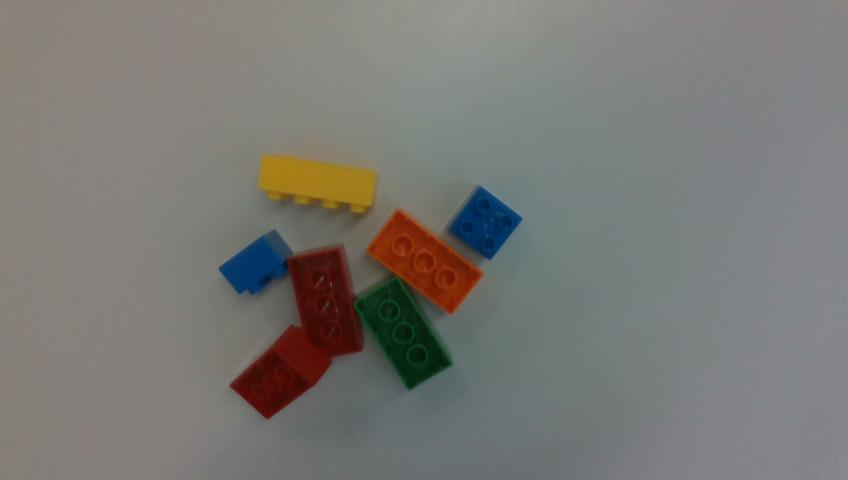2x2_blue: (448, 186, 522, 259), (220, 230, 292, 294)
4x2_green: (356, 277, 452, 389)
4x2_orange: (367, 208, 482, 313)
4x2_red: (230, 325, 331, 418), (287, 246, 362, 356)
4x2_yellow: (258, 155, 376, 213)
